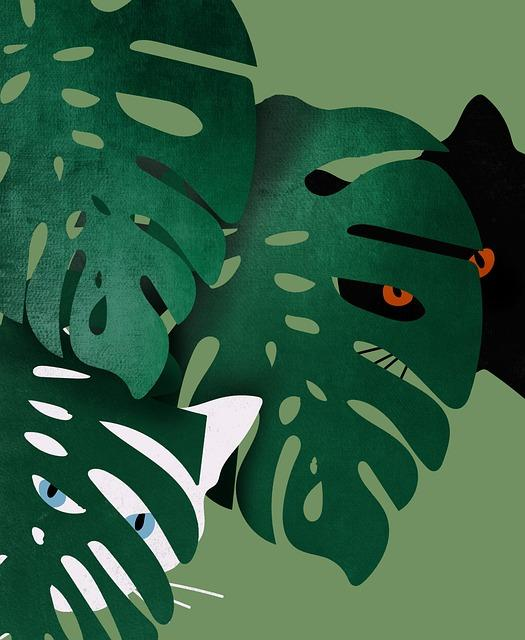Non_Gorille: (10, 0, 522, 640)
